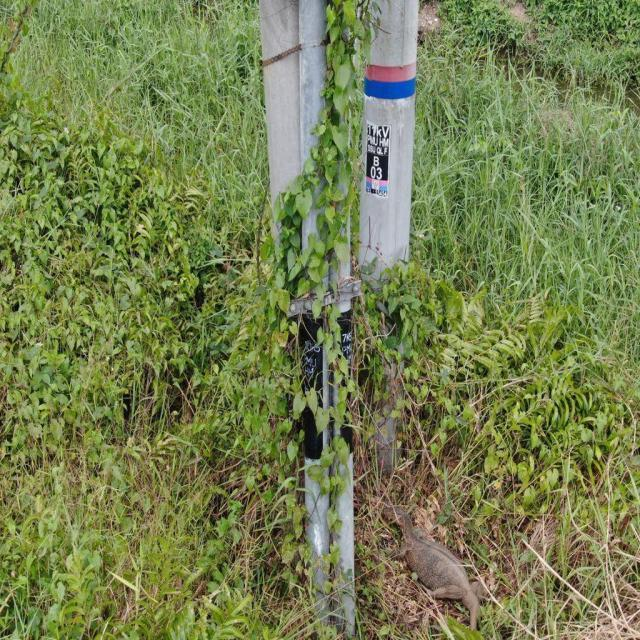critical vegetation: (233, 0, 400, 552)
